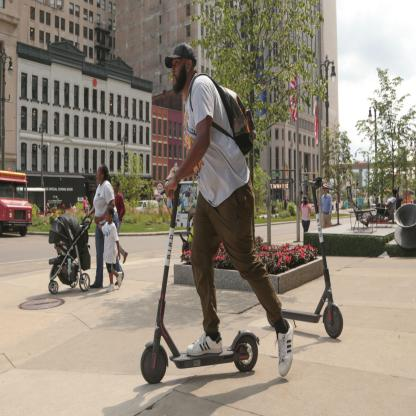scooter: (138, 173, 260, 383)
